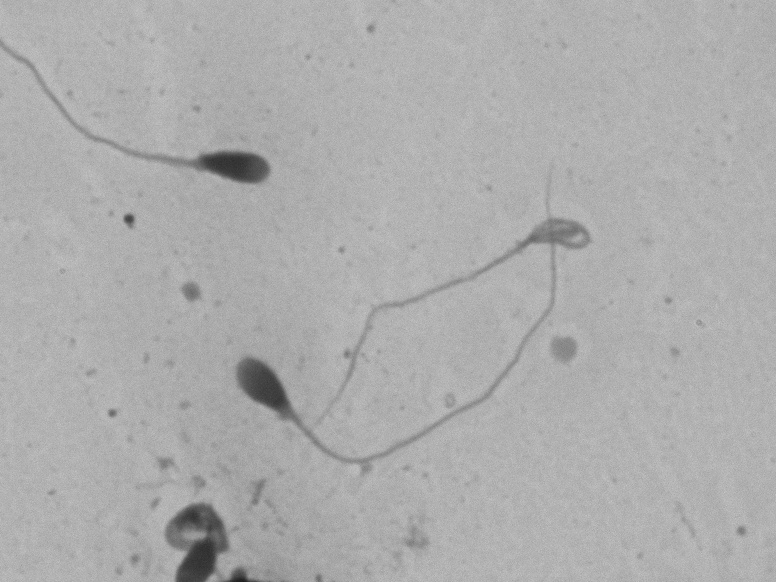Abnormal: (211, 318, 567, 502), (18, 21, 288, 209)
